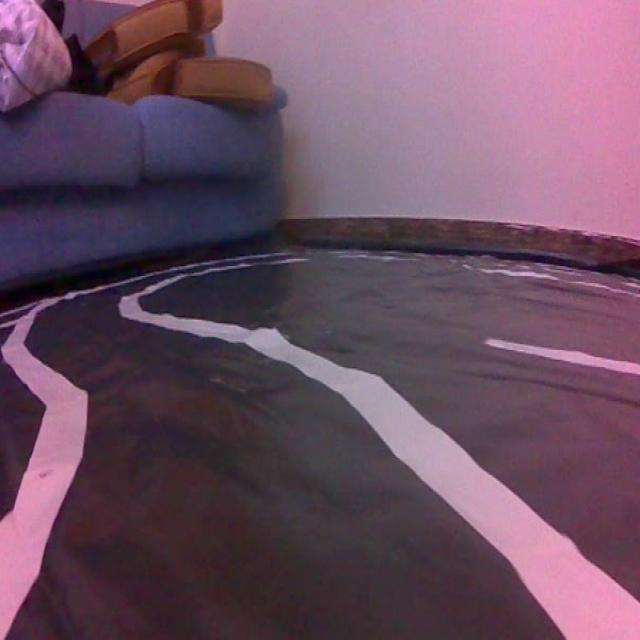LineaCarril: (119, 281, 640, 640), (0, 299, 87, 640)
